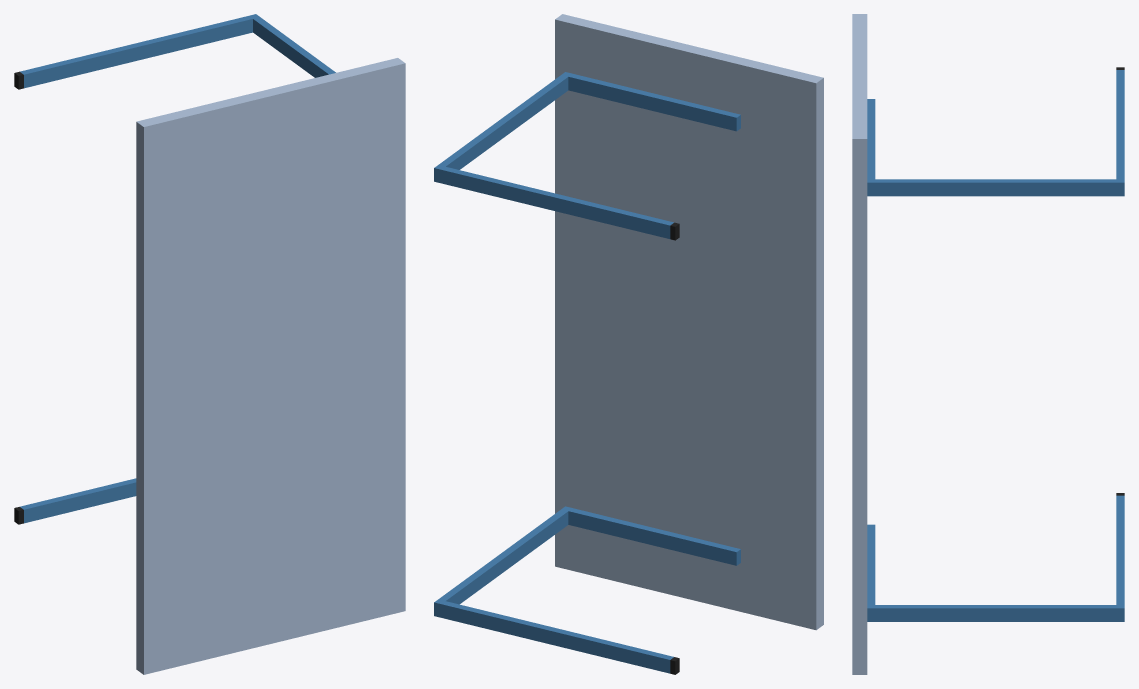
3 views of the same model, side by side, from view 1: azimuth 30°, elevation 25°; view 2: azimuth 150°, elevation 25°; view 3: azimuth 270°, elevation 25° (orthographic). The views are drawn at different scales.
Parts seen in each view (by area): view 1: desk; view 2: desk; view 3: desk.
Boxes of the visible parts, box(x1,y1,x2,y2) form: desk: box(14, 14, 405, 674); desk: box(434, 14, 823, 674); desk: box(852, 14, 1124, 674).
Size of the model in its own units: 23.62 by 47.24 by 21.73.
